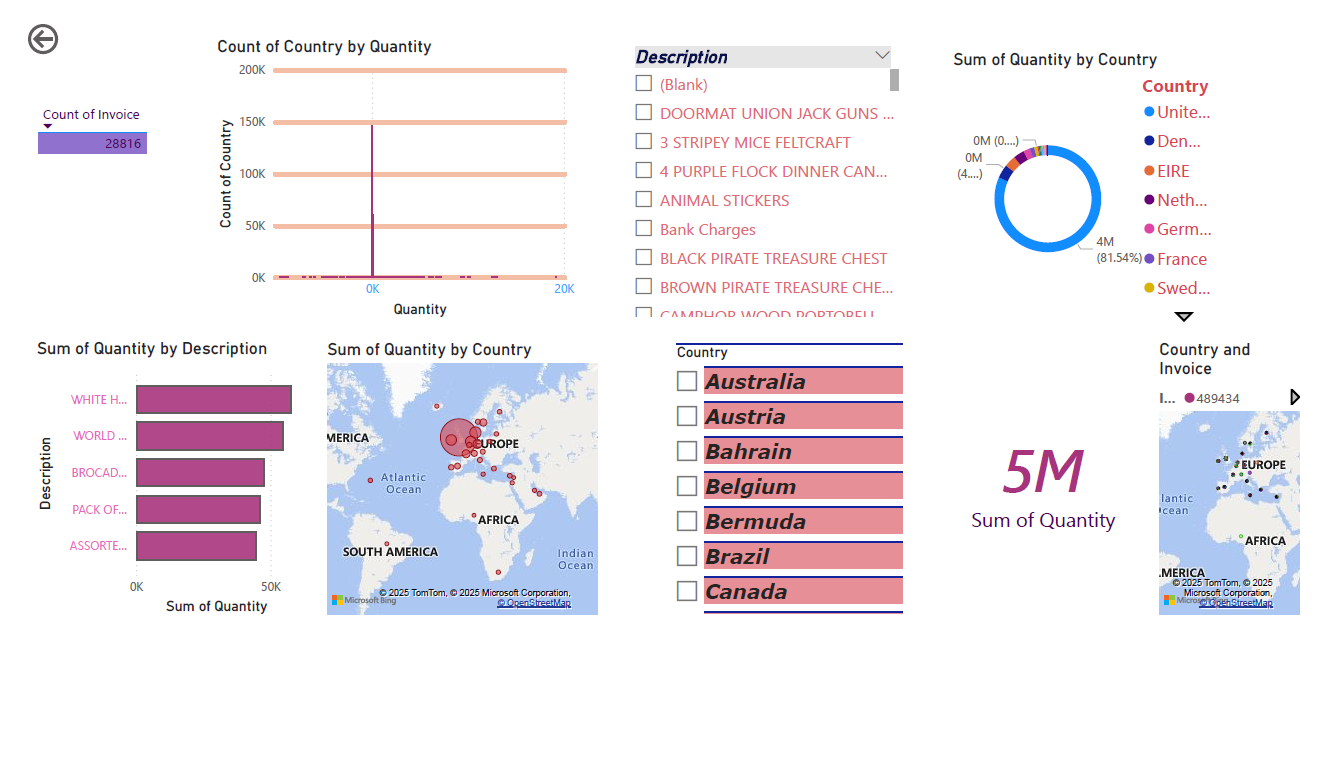

The dashboard page shown, as its layout file describes it:
{"tool":"powerbi","page":{"name":"Page 1","canvas":[1280,720],"ordinal":0},"visuals":[{"type":"clusteredBarChart","fields":{"Y":["Sum(Year 2009-2010.Quantity)"],"Category":["Year 2009-2010.Description"]},"box":[9.3,319.2,280,280],"z":1000},{"type":"tableEx","fields":{"Values":["Year 2009-2010.Invoice"]},"box":[9.3,80.3,179.2,132.6],"z":1500},{"type":"map","fields":{"Category":["Year 2009-2010.Country"],"Size":["Sum(Year 2009-2010.Quantity)"]},"box":[299,320,280,280],"z":2000},{"type":"slicer","fields":{"Values":["Year 2009-2010.Country"]},"box":[640.4,319.2,280,280],"z":3000},{"type":"slicer","fields":{"Values":["Year 2009-2010.Description"]},"box":[599.3,22.4,280,280],"z":4000},{"type":"donutChart","fields":{"Category":["Year 2009-2010.Country"],"Y":["Sum(Year 2009-2010.Quantity)"]},"box":[924.1,29.9,280,280],"z":5000},{"type":"card","fields":{"Values":["Sum(Year 2009-2010.Quantity)"]},"box":[879,320,280,280],"z":6000},{"type":"actionButton","box":[0,0,100,40],"z":7000},{"type":"map","fields":{"Category":["Year 2009-2010.Country"],"Series":["Year 2009-2010.Invoice"]},"box":[1130,320,150,280],"z":8000},{"type":"lineStackedColumnComboChart","fields":{"Category":["Year 2009-2010.Quantity"],"Y":["CountNonNull(Year 2009-2010.Country)"]},"box":[188.6,16.8,367.8,285.6],"z":9000}]}

Visuals, with their boxes in screenshot pixels (x1, y1, x2, y2), scaled from the page's 1280x720 canvas onto the 1324x764 screenshot:
clusteredBarChart - Sum(Year 2009-2010.Quantity) x Year 2009-2010.Description: left=10, top=339, right=299, bottom=636
tableEx - Year 2009-2010.Invoice: left=10, top=85, right=195, bottom=226
map - Year 2009-2010.Country x Sum(Year 2009-2010.Quantity): left=309, top=340, right=599, bottom=637
slicer - Year 2009-2010.Country: left=662, top=339, right=952, bottom=636
slicer - Year 2009-2010.Description: left=620, top=24, right=910, bottom=321
donutChart - Year 2009-2010.Country x Sum(Year 2009-2010.Quantity): left=956, top=32, right=1245, bottom=329
card - Sum(Year 2009-2010.Quantity): left=909, top=340, right=1199, bottom=637
actionButton: left=0, top=0, right=103, bottom=42
map - Year 2009-2010.Country x Year 2009-2010.Invoice: left=1169, top=340, right=1323, bottom=637
lineStackedColumnComboChart - Year 2009-2010.Quantity x CountNonNull(Year 2009-2010.Country): left=195, top=18, right=576, bottom=321
